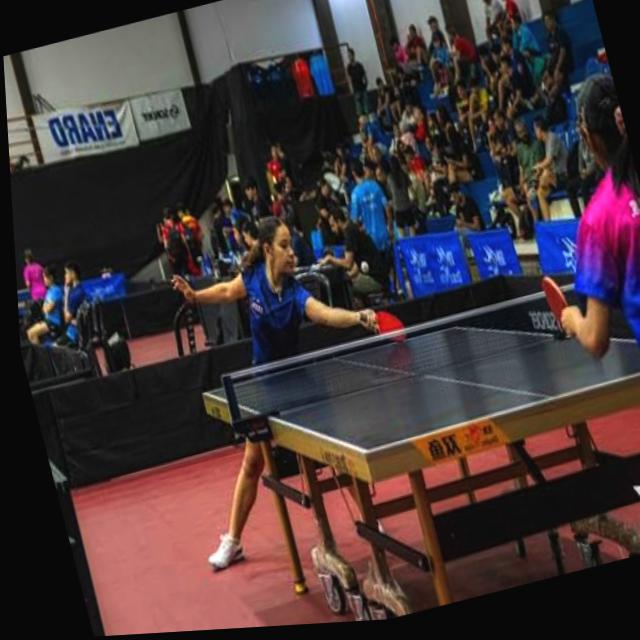TT Net: (221, 272, 621, 426)
TT Racket: (536, 266, 579, 338), (370, 306, 410, 345)
TT Table: (203, 326, 640, 451)
